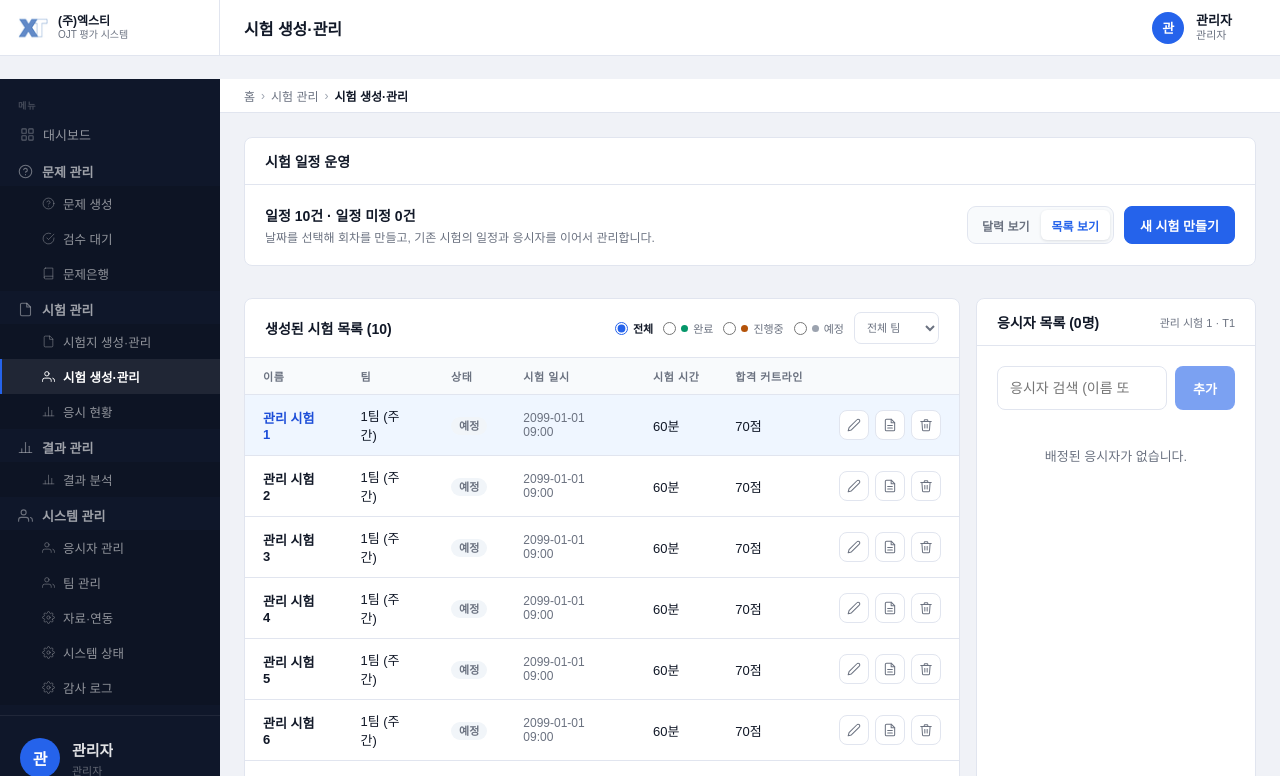
routed latest-main exam management › loads question detail once without changing the selected exam URL
Check: the text "관리 시험 1 · T1" is shown, box [1160,314,1235,330]
Click the 1st button titled "시험 문제 보기" at (890, 425), box [875,410,905,440]
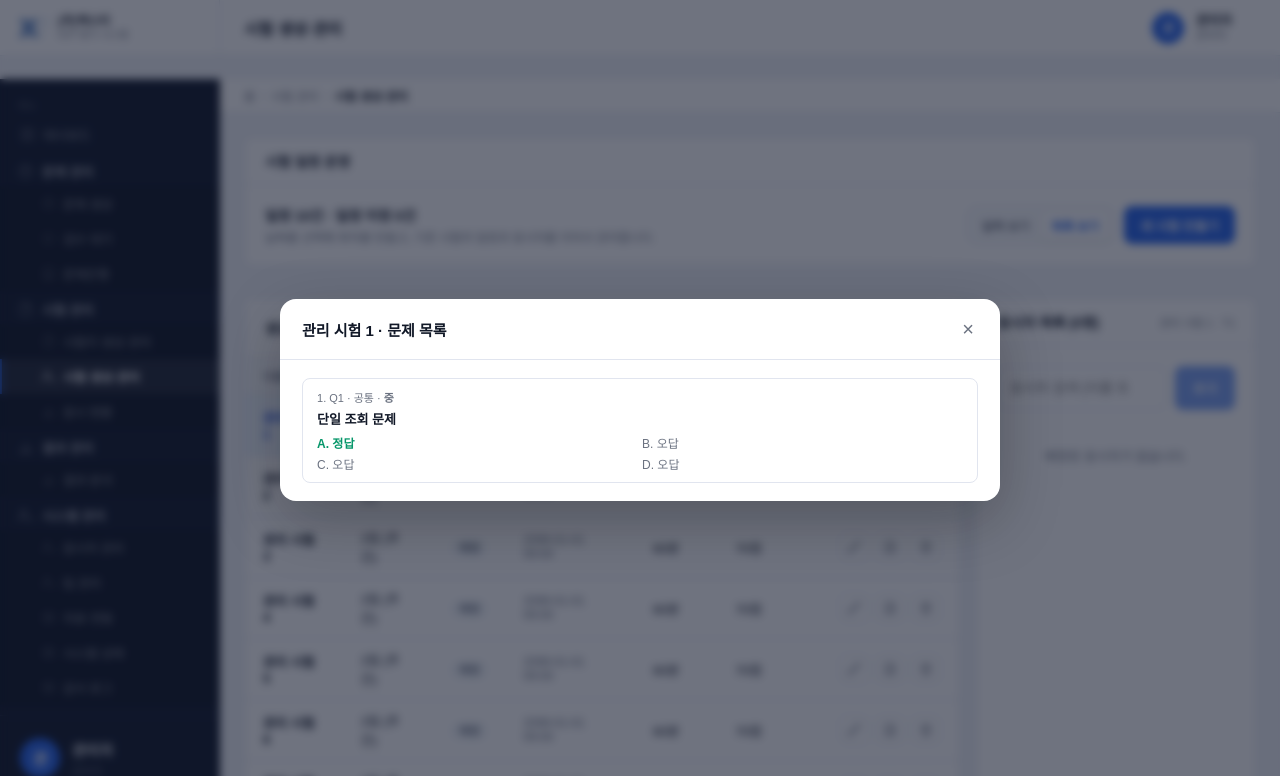
Check: the text with test id "location" reads "/admin/exams/EX-1", box [0,4,122,20]
Check: the text "단일 조회 문제" is shown, box [317,412,396,427]
